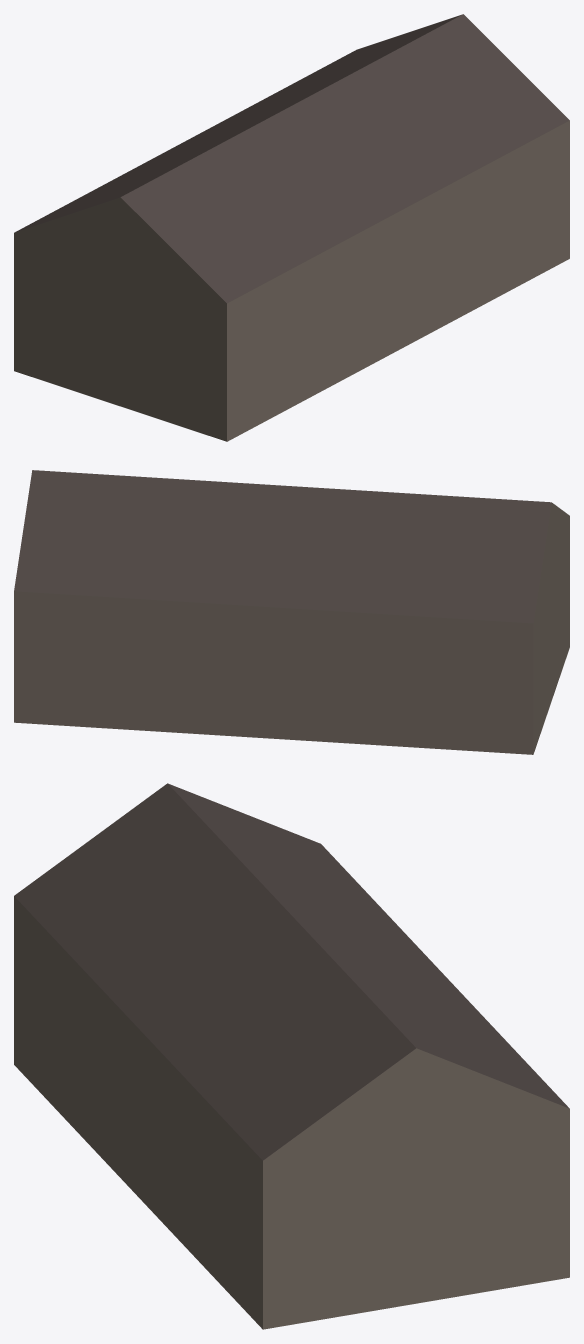
3 renders of one model, top to bottom at view 1: azimuth 30°, elevation 25°; view 2: azimuth 150°, elevation 25°; view 3: azimuth 270°, elevation 25°, orthographic. The views are drawn at different scales.
Visible parts, largest first — view 1: HP-w859424156; view 2: HP-w859424156; view 3: HP-w859424156.
Part boxes in pixels (x1,y1,x2,y2): HP-w859424156: (14,14,569,441); HP-w859424156: (14,470,569,754); HP-w859424156: (14,783,569,1329).
Size of the model in its own units: 24.15 by 9.08 by 17.91.
